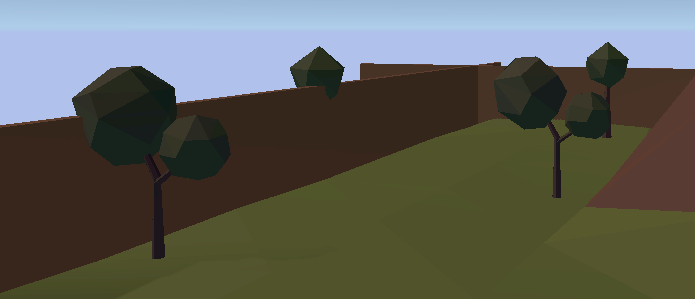tree: (68, 65, 242, 261), (485, 56, 611, 201), (586, 41, 633, 142), (284, 44, 350, 102)
